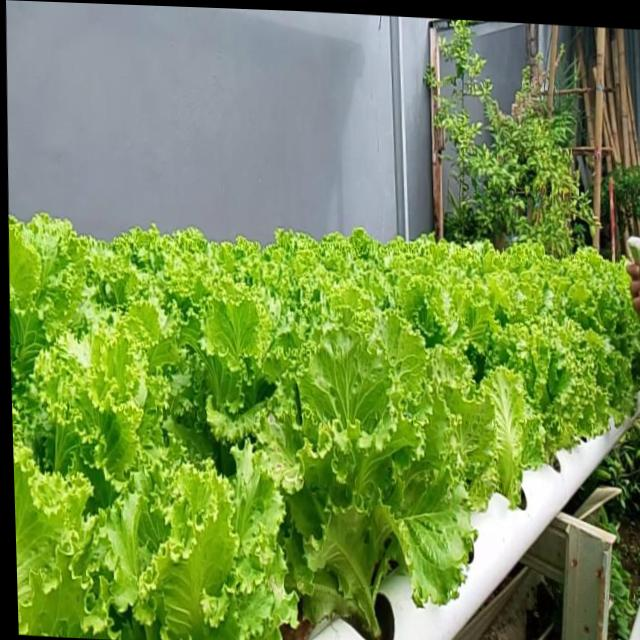Mature: (9, 212, 640, 640), (270, 318, 491, 640), (505, 310, 612, 473)
